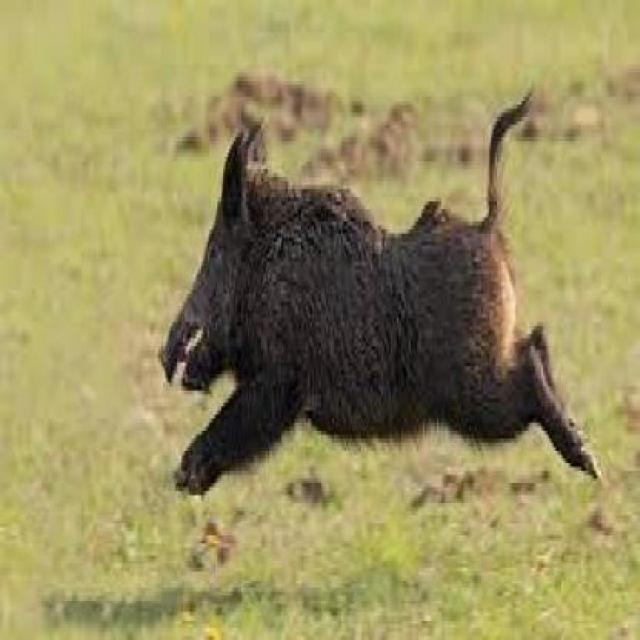wildboar: (156, 67, 604, 530)
